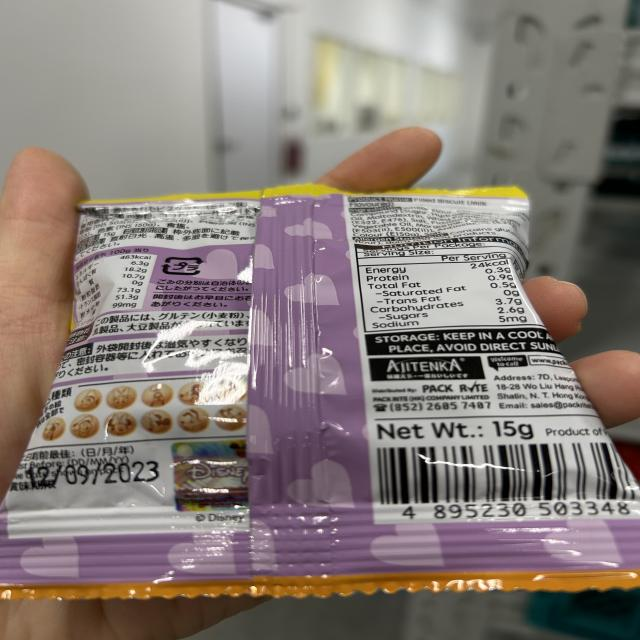object_name: (78, 199, 544, 577)
